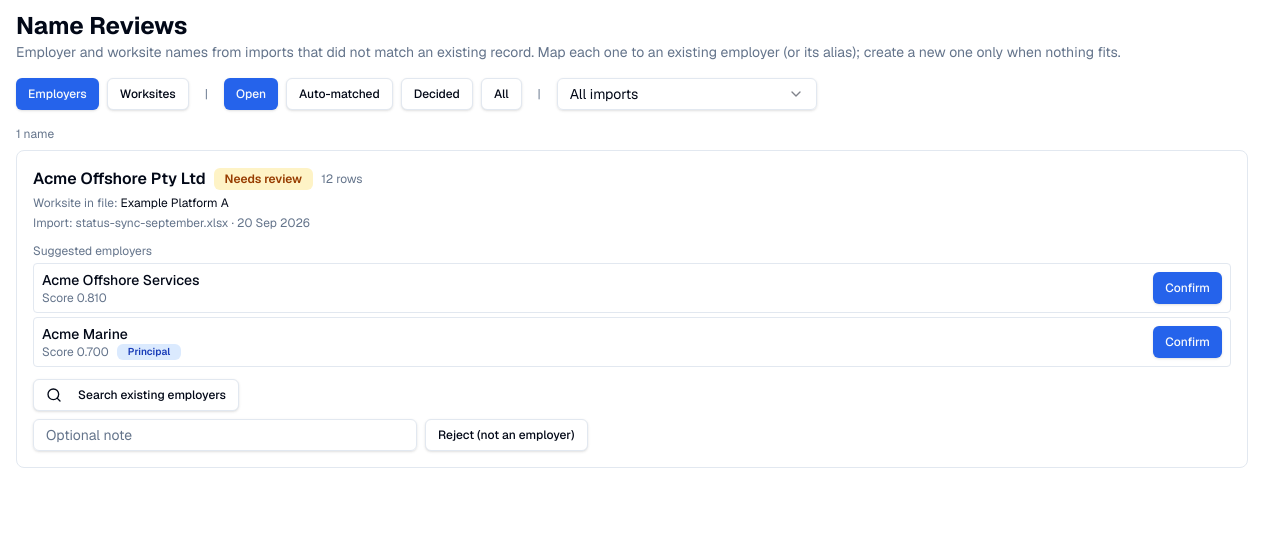
Test: Name Reviews page › Reject posts reject and reports the resolved duplicates
The width and height of the screenshot is (1265, 559).
Click the button "Reject (not an employer)" at [506, 435], box [425, 419, 588, 451]
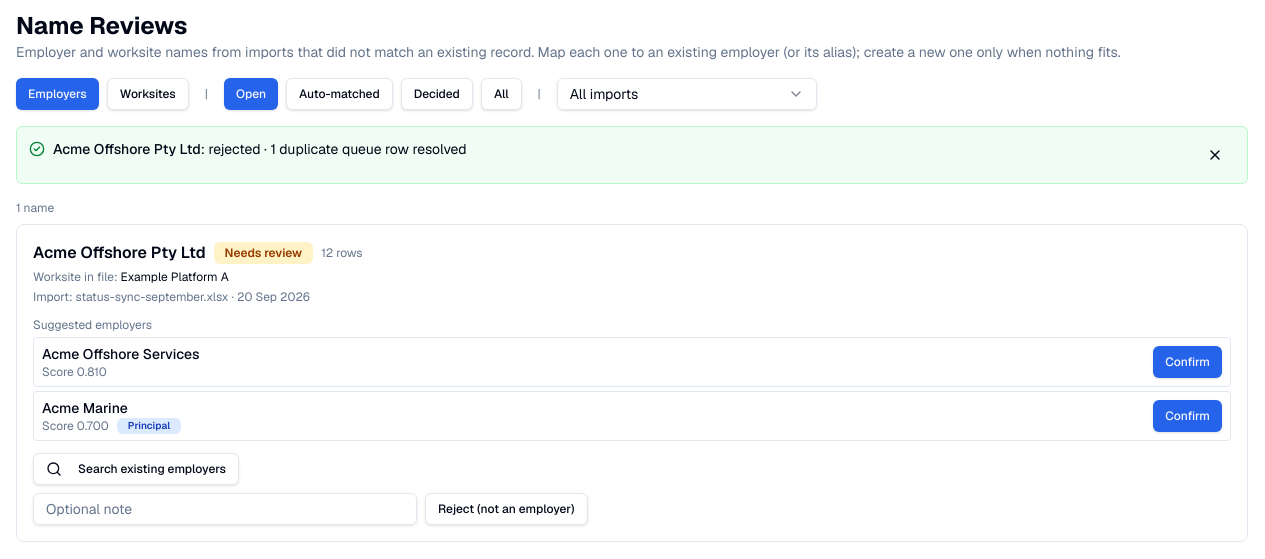
Check: the text "rejected · 1 duplicate queue row resolved" is shown, box [208, 140, 467, 158]
